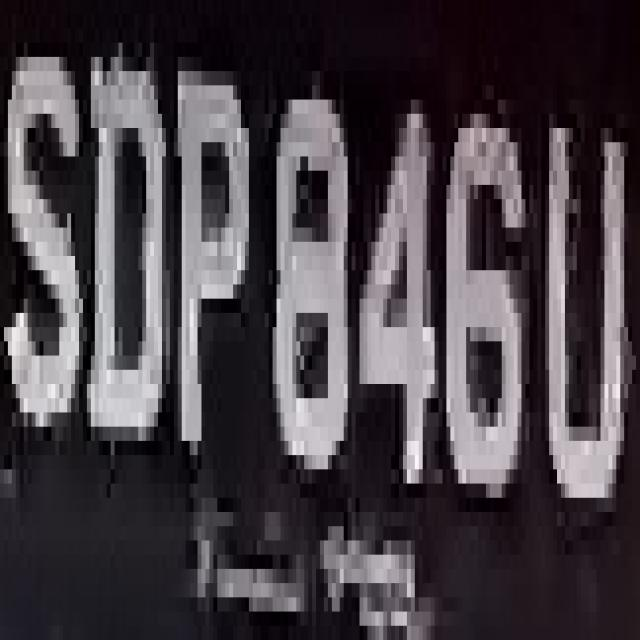4: (352, 28, 442, 540)
6: (438, 57, 522, 540)
8: (264, 71, 352, 484)
D: (79, 14, 166, 470)
P: (162, 42, 257, 484)
S: (0, 0, 83, 455)
U: (530, 57, 628, 540)
